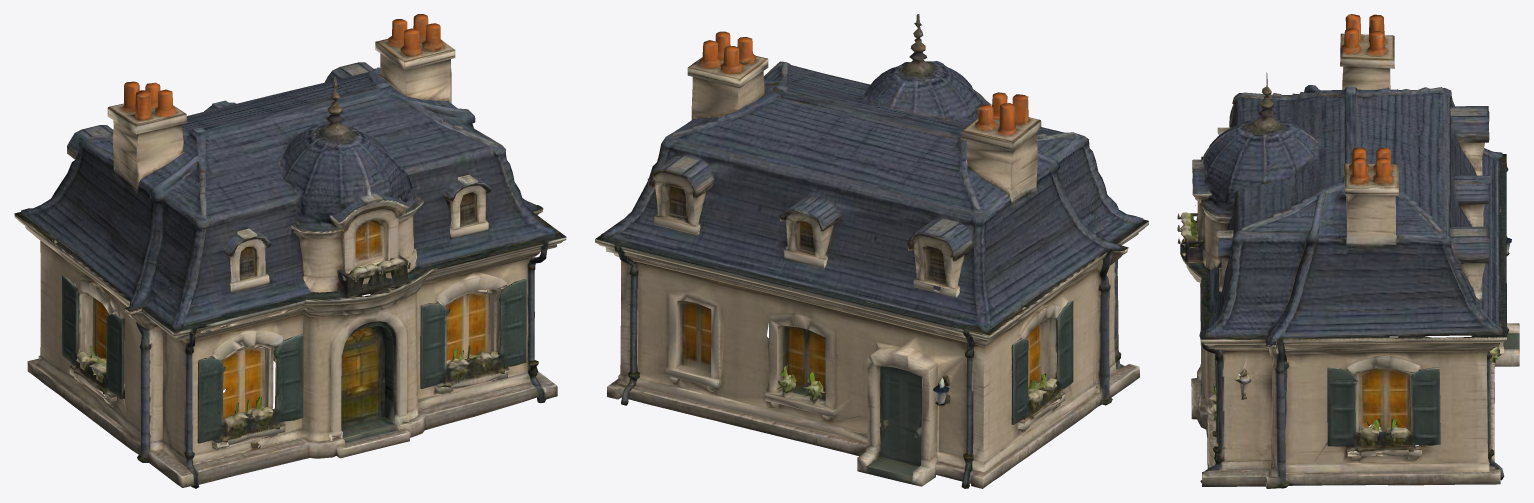
The picture shows the model from 3 angles, left to right: view 1: azimuth 30°, elevation 25°; view 2: azimuth 150°, elevation 25°; view 3: azimuth 270°, elevation 25°; orthographic projection. The views are drawn at different scales.
Parts seen in each view (by area): view 1: classic__tower_1__native_mobile; view 2: classic__tower_1__native_mobile; view 3: classic__tower_1__native_mobile.
Part boxes in pixels (x1,y1,x2,y2): classic__tower_1__native_mobile: [14, 14, 566, 488]; classic__tower_1__native_mobile: [595, 14, 1148, 488]; classic__tower_1__native_mobile: [1177, 14, 1519, 488].
Size of the model in its own units: 1 by 0.7906 by 0.7421.
Materials: 1 (1 with a texture image).
